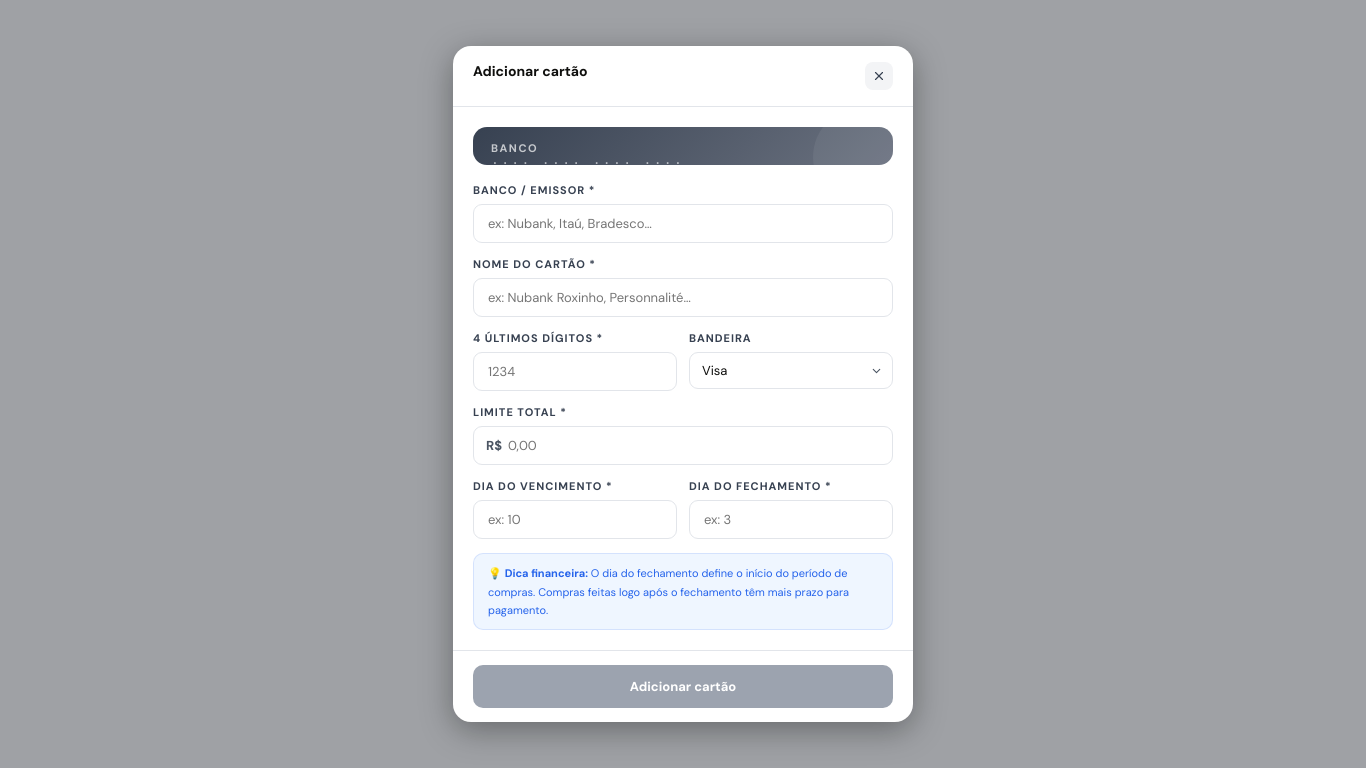
CardFormSheet — foco nos campos › mantem o foco no campo de nome ao digitar varios caracteres
Click the field with placeholder "ex: Nubank Roxinho, Personnalité…" at (683, 298), box [486,288,880,308]
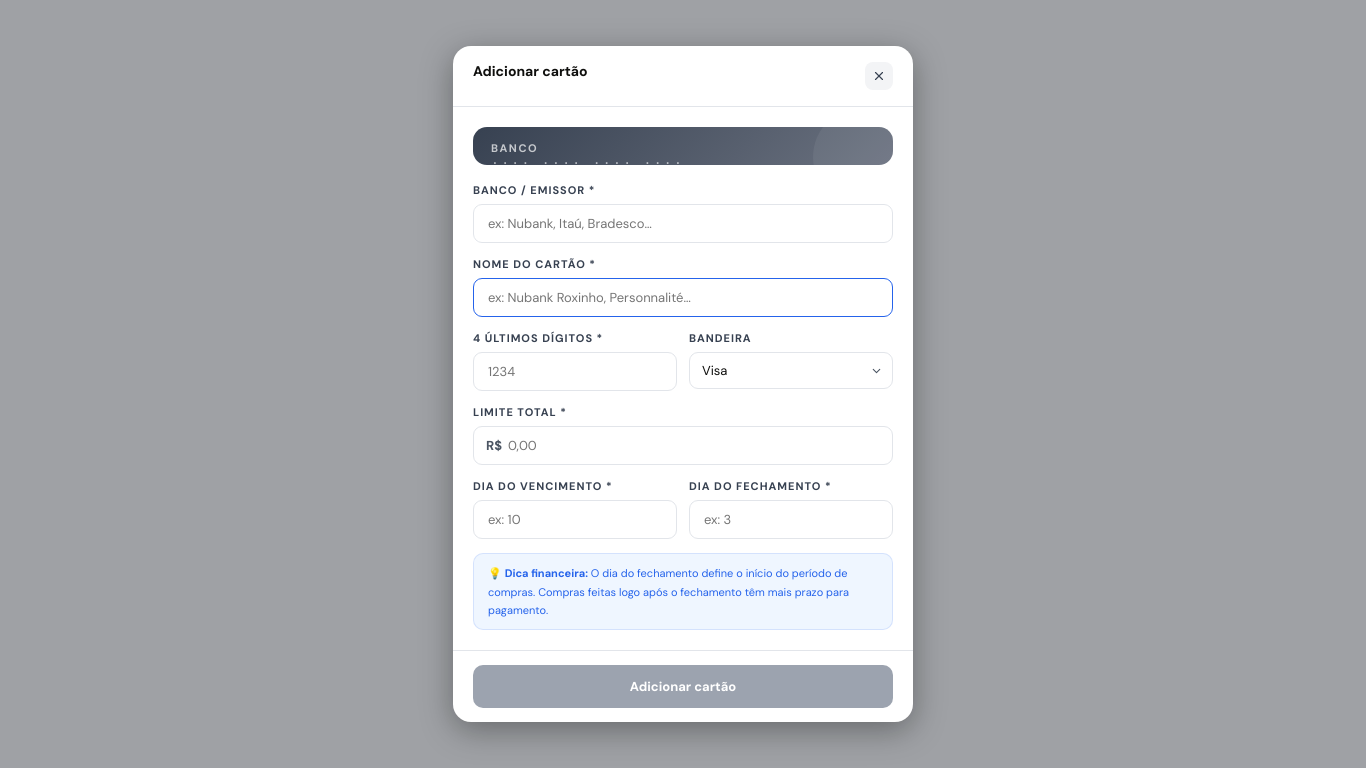
Type keys "Nubank"
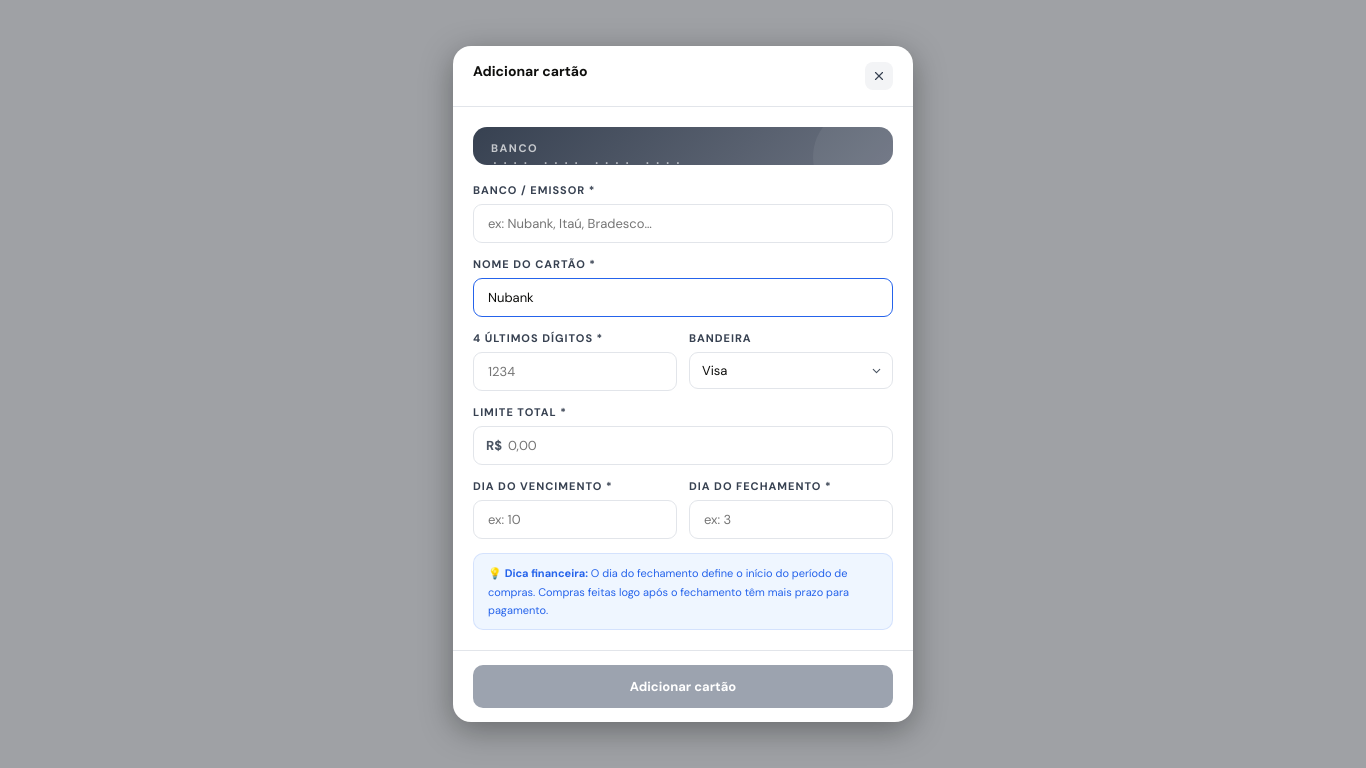
Now the field with placeholder "ex: Nubank Roxinho, Personnalité…" holds "Nubank", box [486,288,880,308]
